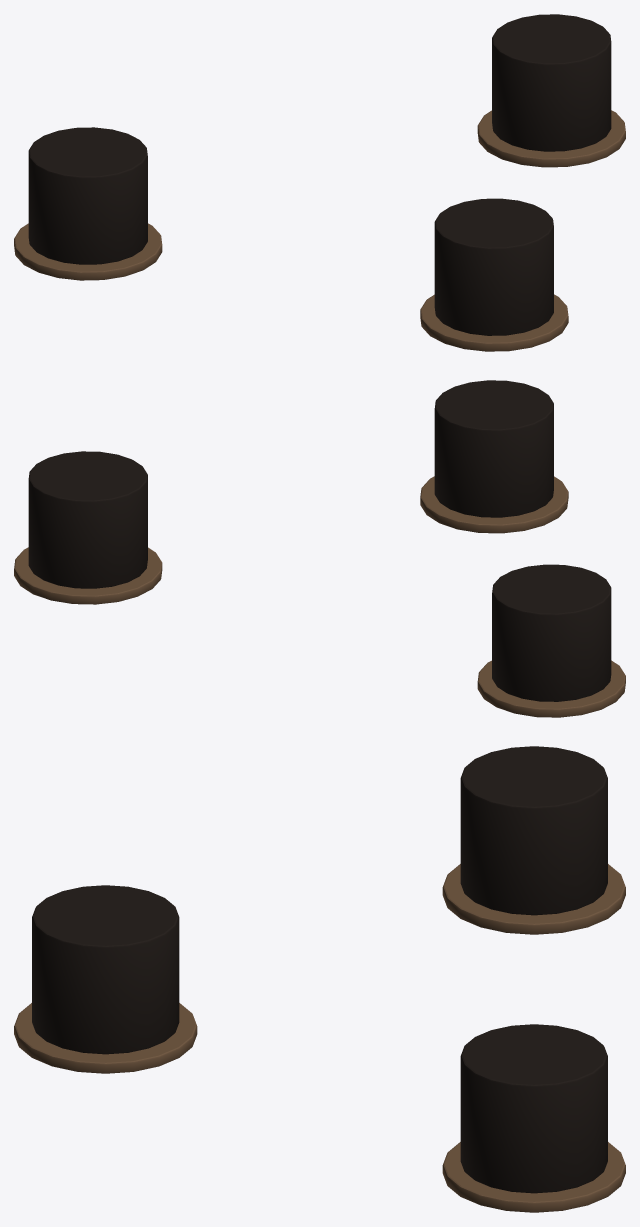
The model's file is ceiling_light_premium_triple_lod1.glb.
3 renders of one model, top to bottom at view 1: azimuth 30°, elevation 25°; view 2: azimuth 150°, elevation 25°; view 3: azimuth 270°, elevation 25°, orthographic. The views are drawn at different scales.
Visible parts, largest first — view 1: LOD1_Downlight_02_RoughInHousing, LOD1_Downlight_01_RoughInHousing, LOD1_Downlight_03_RoughInHousing, BATCH_Root_Premium_DarkBronze.001; view 2: LOD1_Downlight_02_RoughInHousing, LOD1_Downlight_03_RoughInHousing, LOD1_Downlight_01_RoughInHousing, BATCH_Root_Premium_DarkBronze.001; view 3: LOD1_Downlight_03_RoughInHousing, LOD1_Downlight_02_RoughInHousing, LOD1_Downlight_01_RoughInHousing, BATCH_Root_Premium_DarkBronze.001.
Boxes of the visible parts, x1,y1,x2,y2 form: LOD1_Downlight_02_RoughInHousing: (492, 14, 611, 151); LOD1_Downlight_01_RoughInHousing: (28, 127, 147, 264); LOD1_Downlight_03_RoughInHousing: (434, 198, 553, 335); BATCH_Root_Premium_DarkBronze.001: (14, 110, 625, 351); LOD1_Downlight_02_RoughInHousing: (28, 451, 147, 588); LOD1_Downlight_03_RoughInHousing: (434, 380, 553, 517); LOD1_Downlight_01_RoughInHousing: (492, 564, 611, 701); BATCH_Root_Premium_DarkBronze.001: (14, 476, 625, 717); LOD1_Downlight_03_RoughInHousing: (32, 885, 179, 1054); LOD1_Downlight_02_RoughInHousing: (460, 1024, 607, 1193); LOD1_Downlight_01_RoughInHousing: (460, 746, 607, 915); BATCH_Root_Premium_DarkBronze.001: (14, 864, 625, 1212).
Size of what is drawn, in the model's own units: 0.844 by 0.145 by 0.614.
